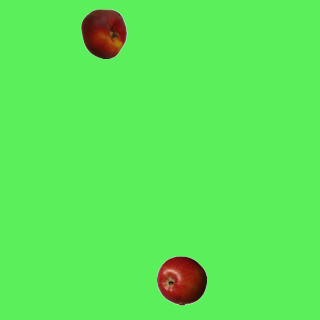Apple Braeburn: (156, 255, 206, 305)
Nectarine Flat: (78, 8, 128, 58)
